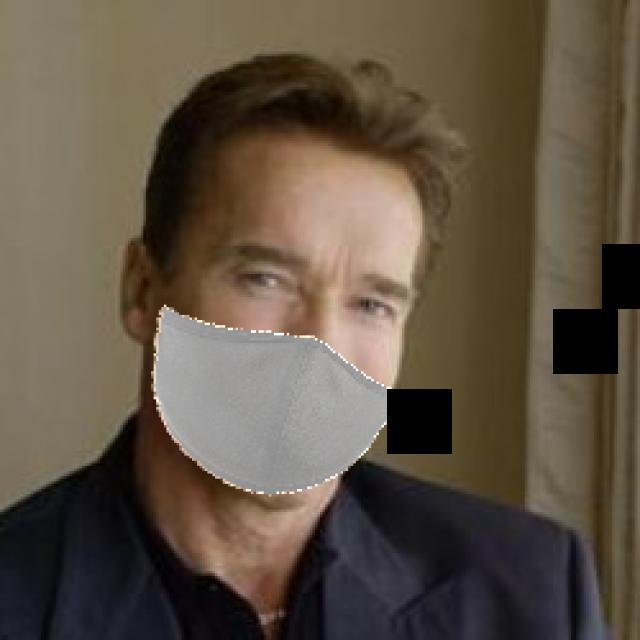cloth: (162, 92, 412, 500)
